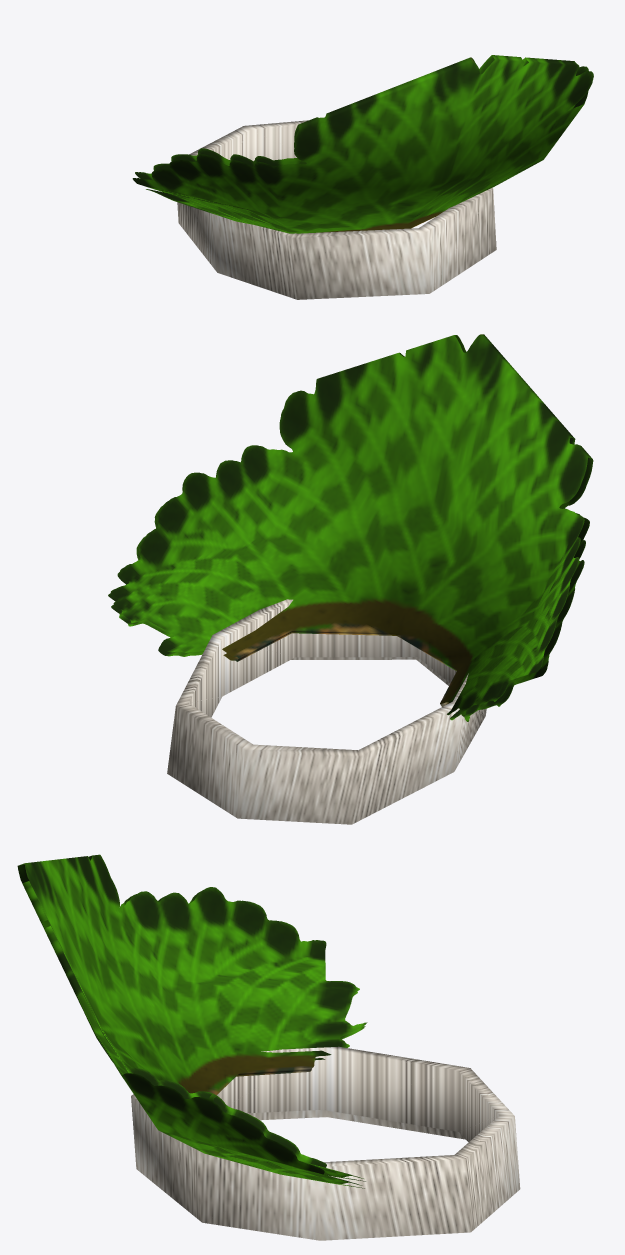
File: tupi_cocar_1.dae
The picture shows the model from 3 angles, top to bottom: view 1: azimuth 30°, elevation 25°; view 2: azimuth 150°, elevation 25°; view 3: azimuth 270°, elevation 25°; orthographic projection. The views are drawn at different scales.
Visible parts, largest first — view 1: cocar_tupi_1; view 2: cocar_tupi_1; view 3: cocar_tupi_1.
Part boxes in pixels (x1=…): cocar_tupi_1: x1=132, y1=55, x2=593, y2=299; cocar_tupi_1: x1=108, y1=334, x2=593, y2=824; cocar_tupi_1: x1=17, y1=854, x2=520, y2=1240.
Bounding box in the file's own units: 0.8263 × 0.8633 × 0.5214.
